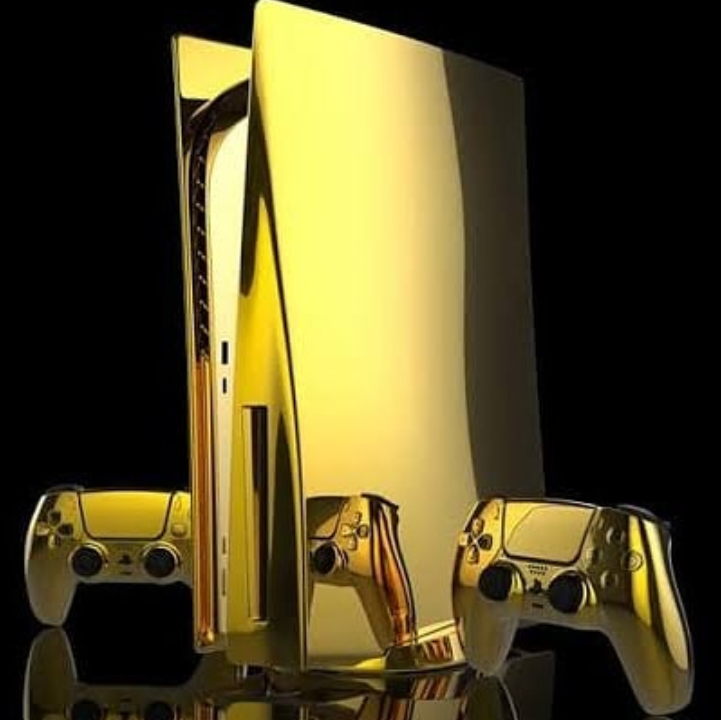gamingconsole: (458, 495, 694, 715), (25, 482, 194, 629)
